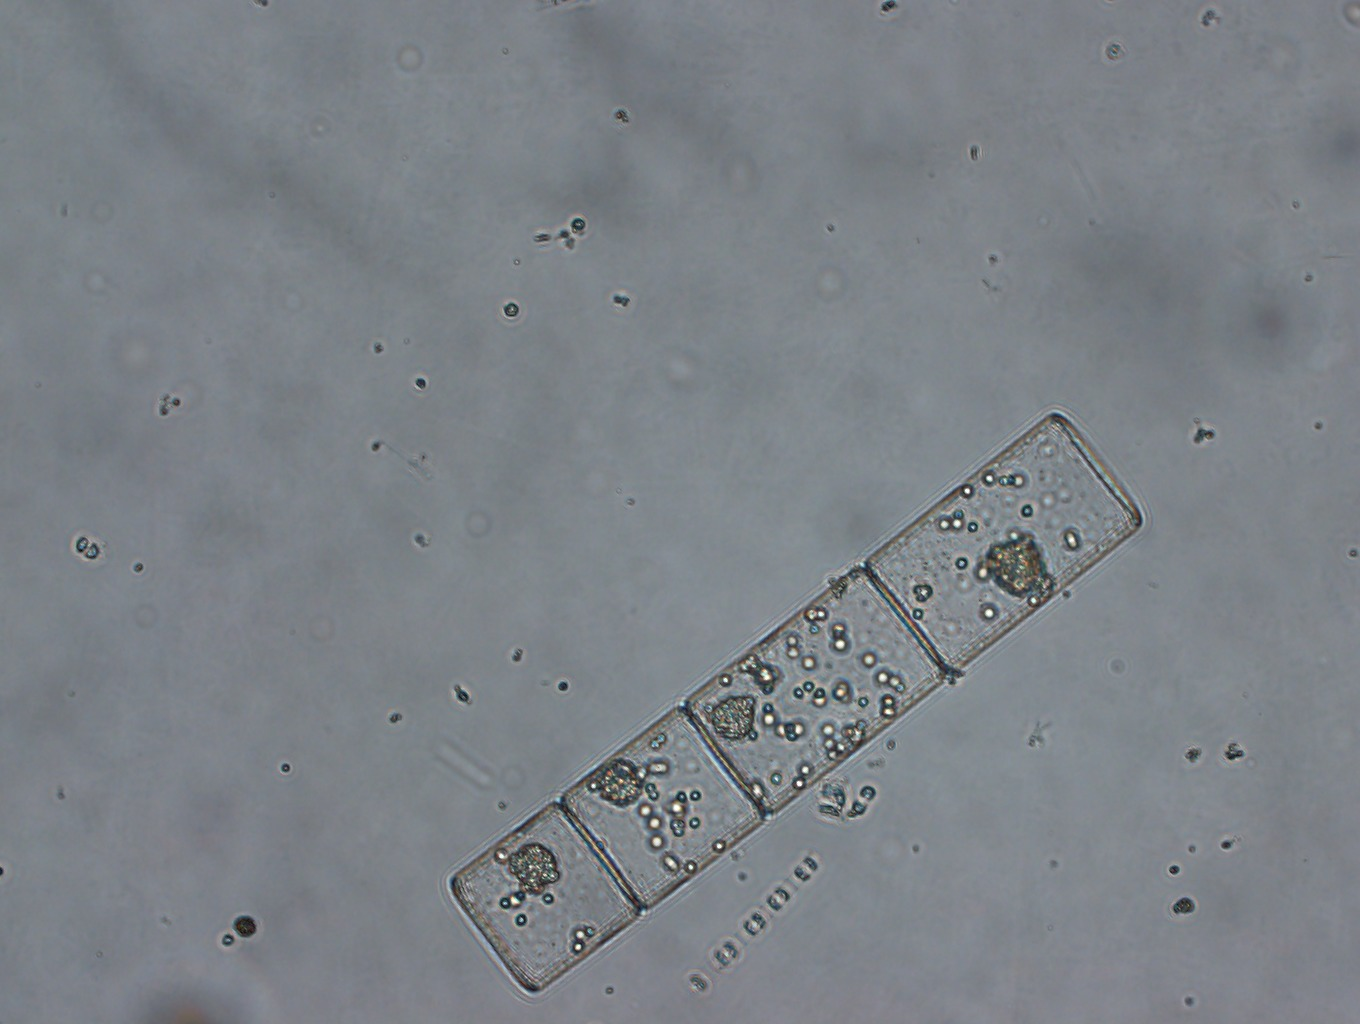guinardia flaccida: (441, 406, 1153, 1000)
